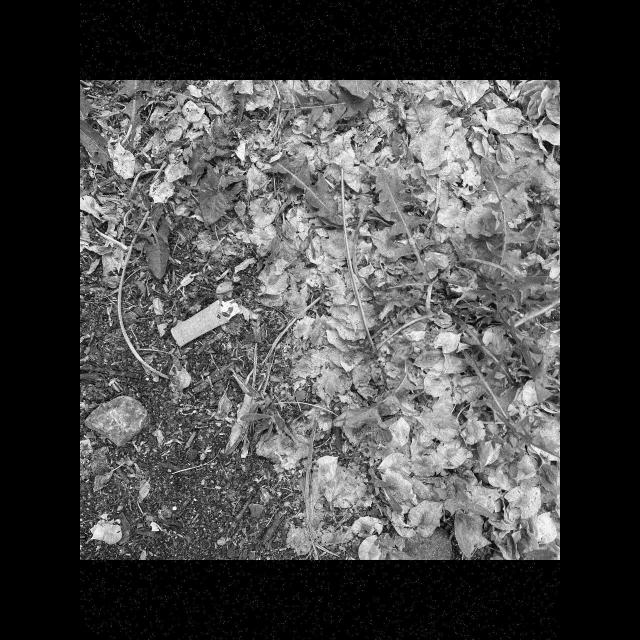cigarette: (170, 299, 240, 347)
